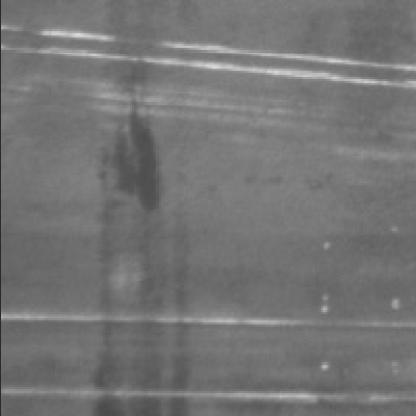inclusion: (104, 23, 168, 206)
scratches: (12, 25, 416, 91), (2, 300, 412, 330), (4, 382, 416, 402)
